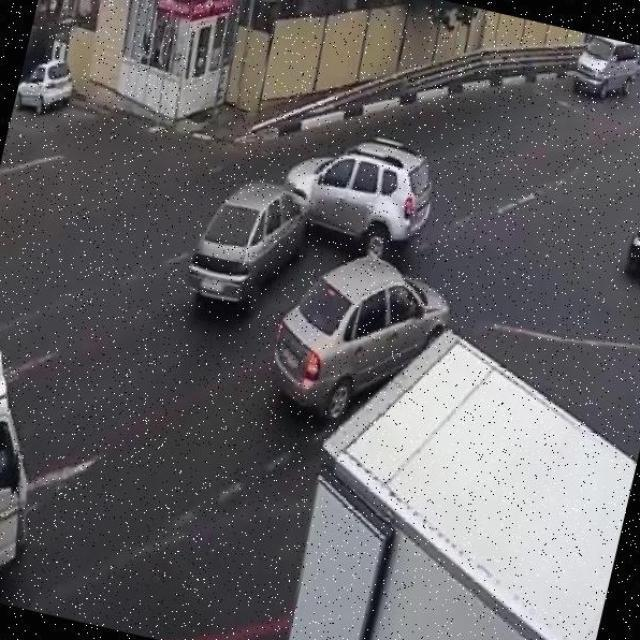accident: (232, 125, 375, 254)
